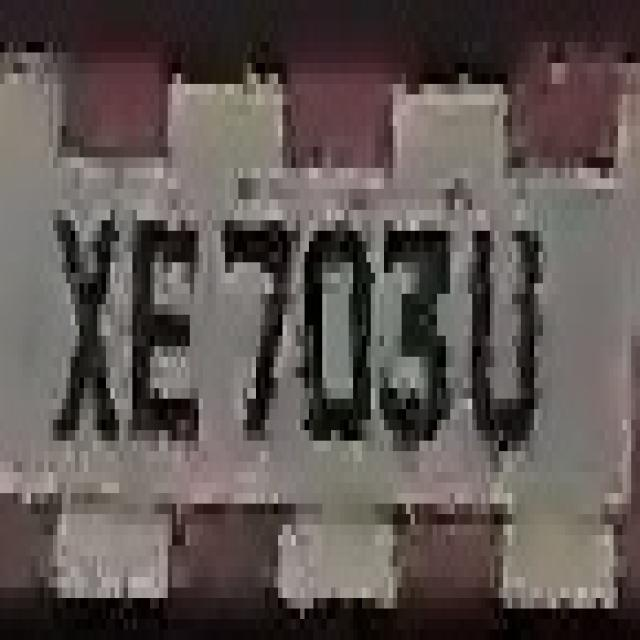0: (291, 210, 375, 472)
3: (370, 178, 454, 452)
7: (212, 199, 291, 462)
E: (119, 178, 208, 472)
U: (464, 168, 538, 451)
X: (44, 158, 115, 482)
